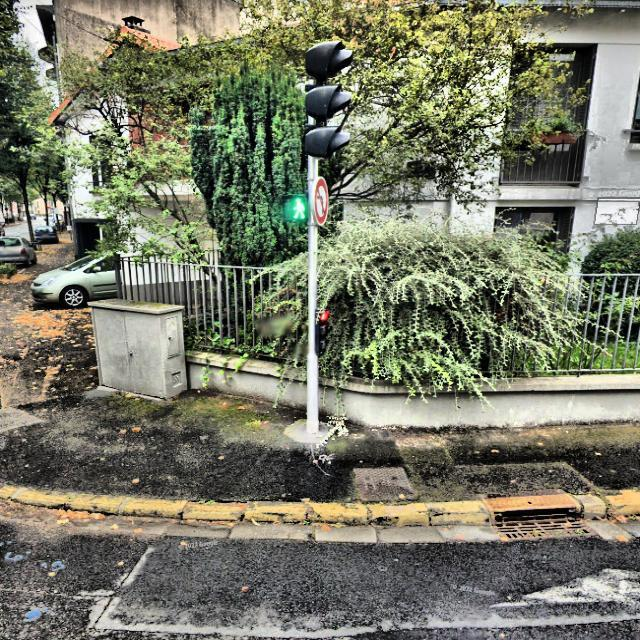green_light: (290, 194, 306, 220)
